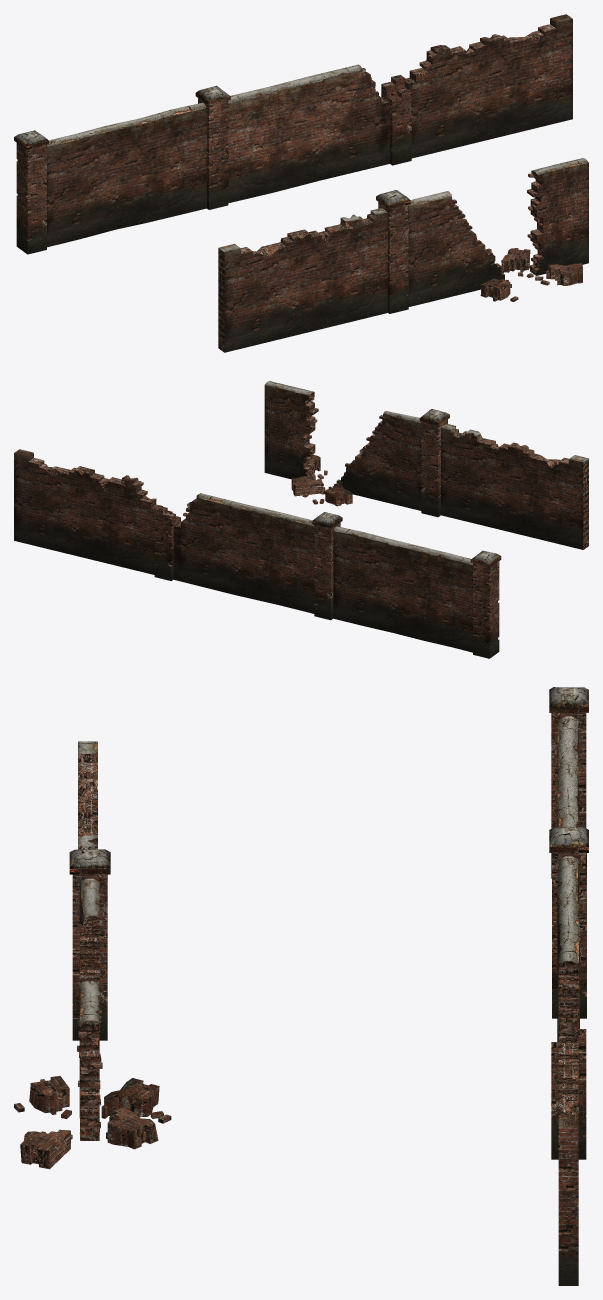
Rendered from Brick_fence.FBX.
3 views of the same model, one above another, from view 1: azimuth 30°, elevation 25°; view 2: azimuth 150°, elevation 25°; view 3: azimuth 270°, elevation 25° (orthographic). The views are drawn at different scales.
Visible parts, largest first — view 1: Wall08, Wall09, Wall13, Wall07, Wall10, Wall12, Stolb08, Stolb10; view 2: Wall08, Wall09, Wall13, Wall07, Wall10, Wall12, Stolb08, Stolb10; view 3: Wall10, Wall12, Wall08, Wall07, Stolb10, Stolb08, Wall13, Wall09.
Boxes of the visible parts, x1,y1,x2,y2 form: Wall08: (227,64,411,203); Wall09: (218,208,388,352); Wall13: (45,102,206,247); Wall07: (404,14,572,158); Wall10: (376,190,518,313); Wall12: (501,158,588,285); Stolb08: (14,130,48,254); Stolb10: (195,85,230,209); Wall08: (154,493,315,613); Wall09: (441,423,588,549); Wall13: (333,526,473,652); Wall07: (14,449,162,574); Wall10: (312,409,449,517); Wall12: (264,381,327,497); Stolb08: (470,550,501,658); Stolb10: (312,512,342,620); Wall10: (14,849,171,1123); Wall12: (20,981,158,1169); Wall08: (551,856,586,1159); Wall07: (558,1022,578,1285); Stolb10: (549,827,588,1018); Stolb08: (549,687,588,878); Wall13: (557,716,578,827); Wall09: (78,741,97,849).
Bounding box in the file's own units: 20.03 × 4.05 × 11.5.
Materials: 1 (1 with a texture image).
